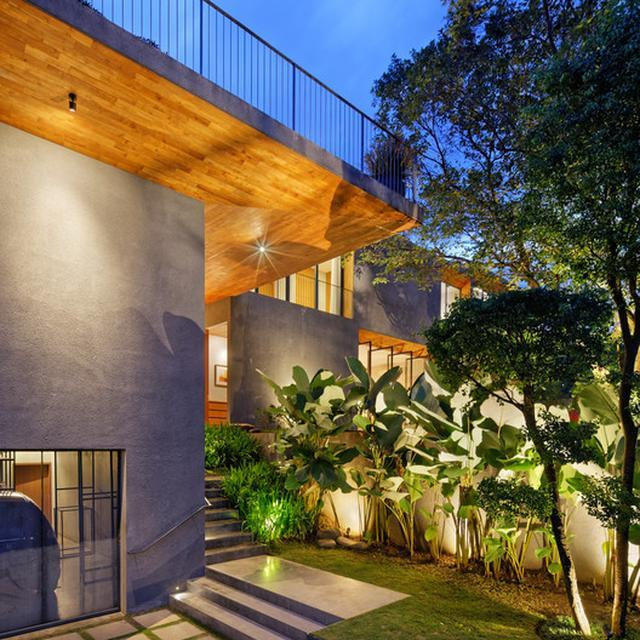building: (0, 0, 513, 627)
